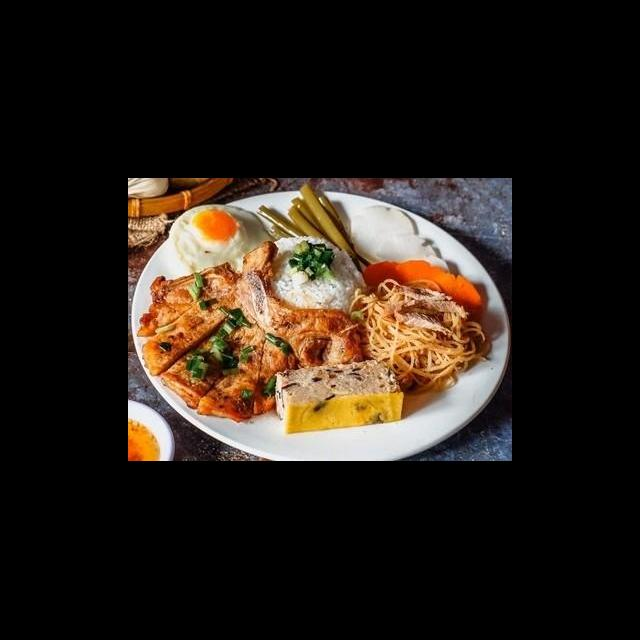bi: (338, 214, 505, 378)
cha: (367, 363, 473, 438)
com: (232, 202, 368, 282), (270, 322, 376, 406)
com suon bi cha trung: (131, 195, 512, 461)
dua chua: (189, 363, 293, 438), (284, 386, 385, 458), (157, 323, 279, 382)
suon: (138, 264, 267, 424), (275, 272, 408, 401)
trung: (161, 206, 262, 269)
